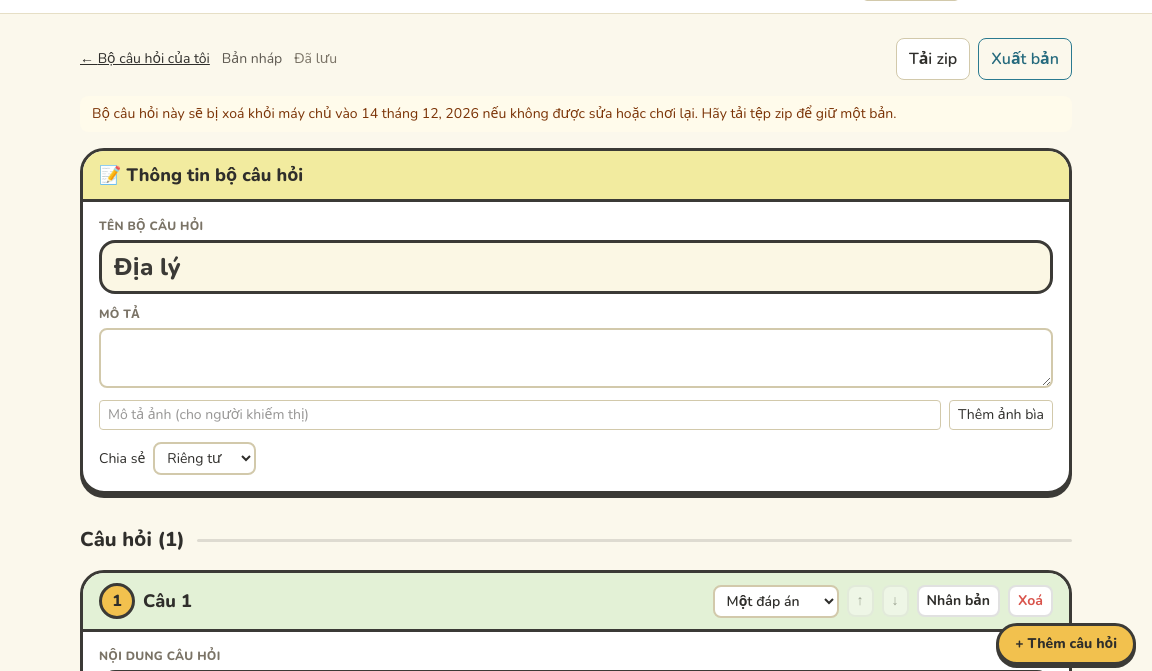
Test: with the add row off screen, a corner button opens the choices and closes after adding
This screenshot has width=1152, height=671.
Step 1. Click the button "+ Thêm câu hỏi" → (1066, 644), box [996,623,1136,665]
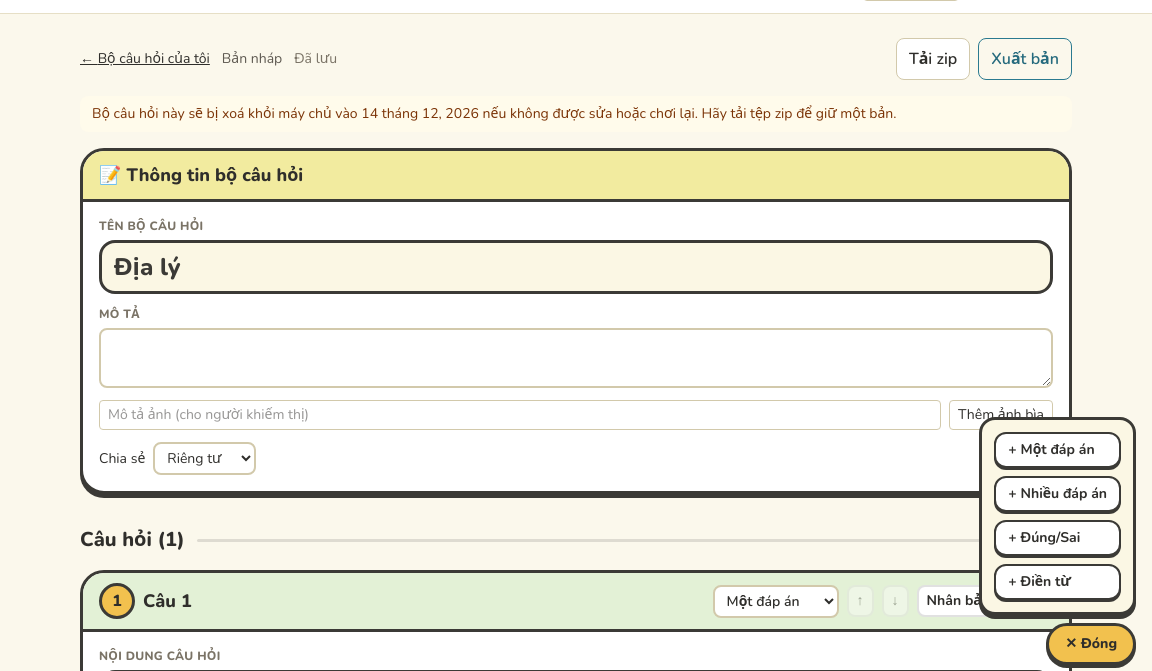
Step 2. Click the menu item "+ Điền từ" → (1058, 582), box [994,564,1121,600]
(page scrolled)
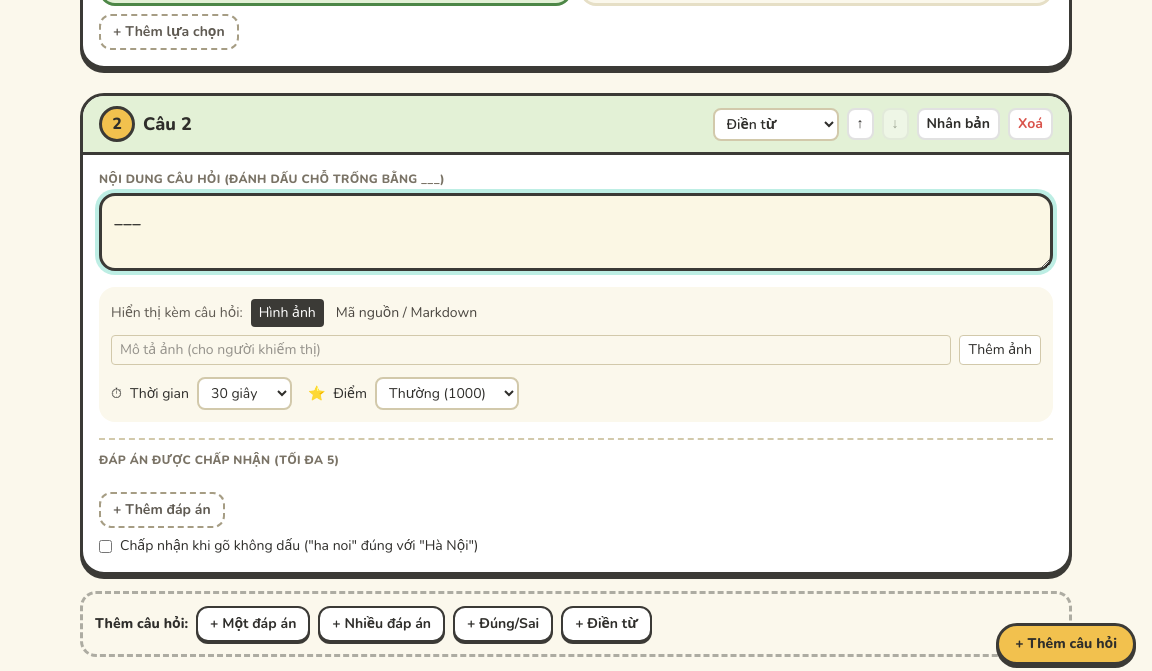
Check: the menu is gone
Check: the element "Câu 2" is shown
